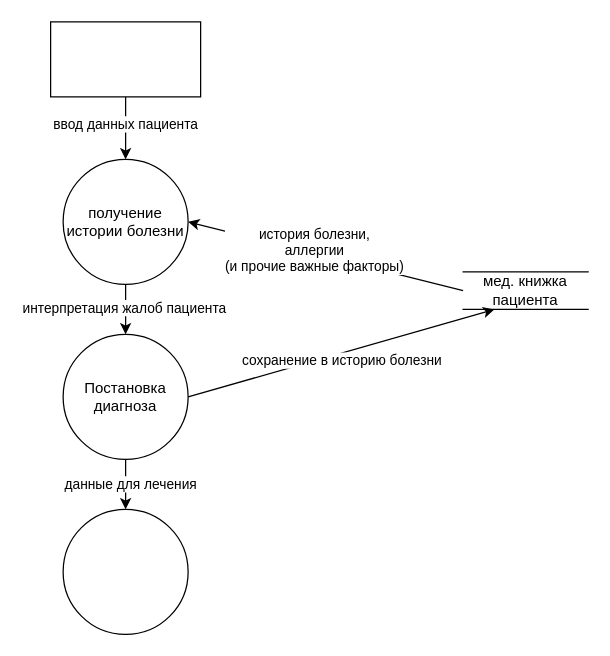
This 610x656 diagram has some shape labels left out. Here are the shapes that lost their labels. From the top down, the centre of each, then its label:
the point at 125,59: Врач
the point at 125,571: Выписывание рецепта
